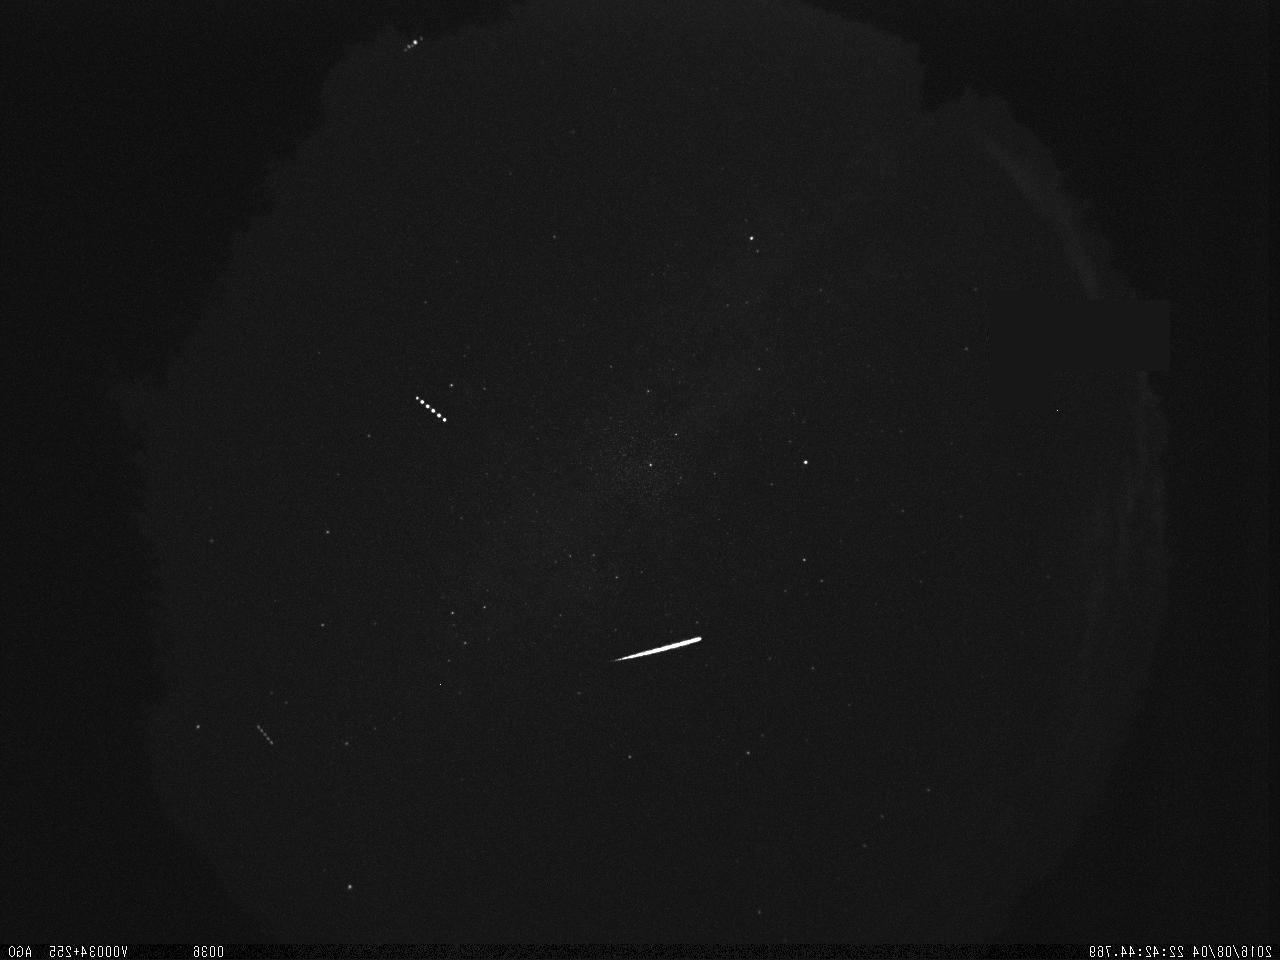meteor: (605, 627, 706, 672)
satelite: (408, 383, 454, 434), (396, 31, 431, 54)
